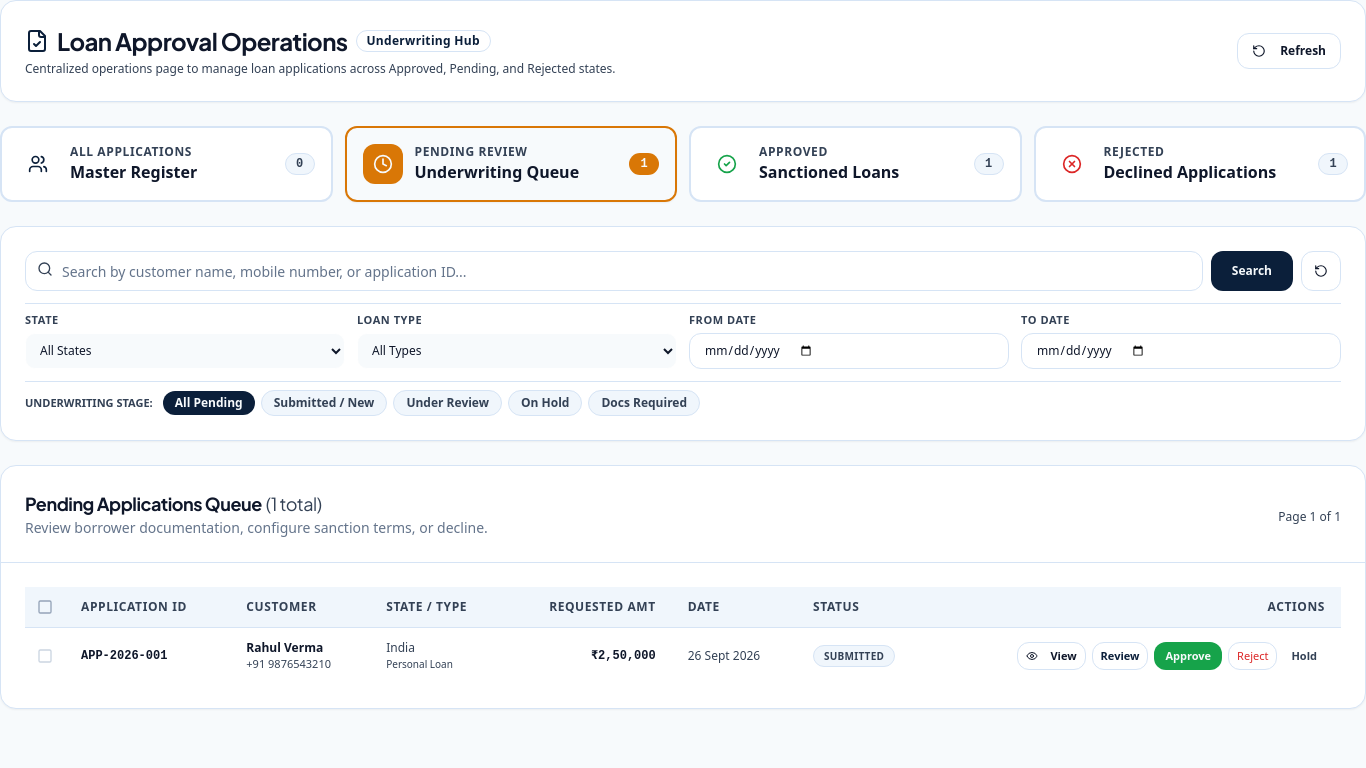
Test: FINAL CHANGE 4/5: Loan Approval Operations & Documents Hub › 1. Dedicated Admin Loan Approval Operations Page (/admin/loan-approval) › renders the 3 top-level state navigation buttons: Pending, Approved, and Rejected
Expected: the heading "Loan Approval Operations" is shown, [25, 25, 348, 57]
Expected: the text "Pending Review" is shown, [414, 143, 528, 160]
// Switch to Approved Tab
Click the text "Sanctioned Loans".
click(829, 172)  # box [759, 160, 899, 184]
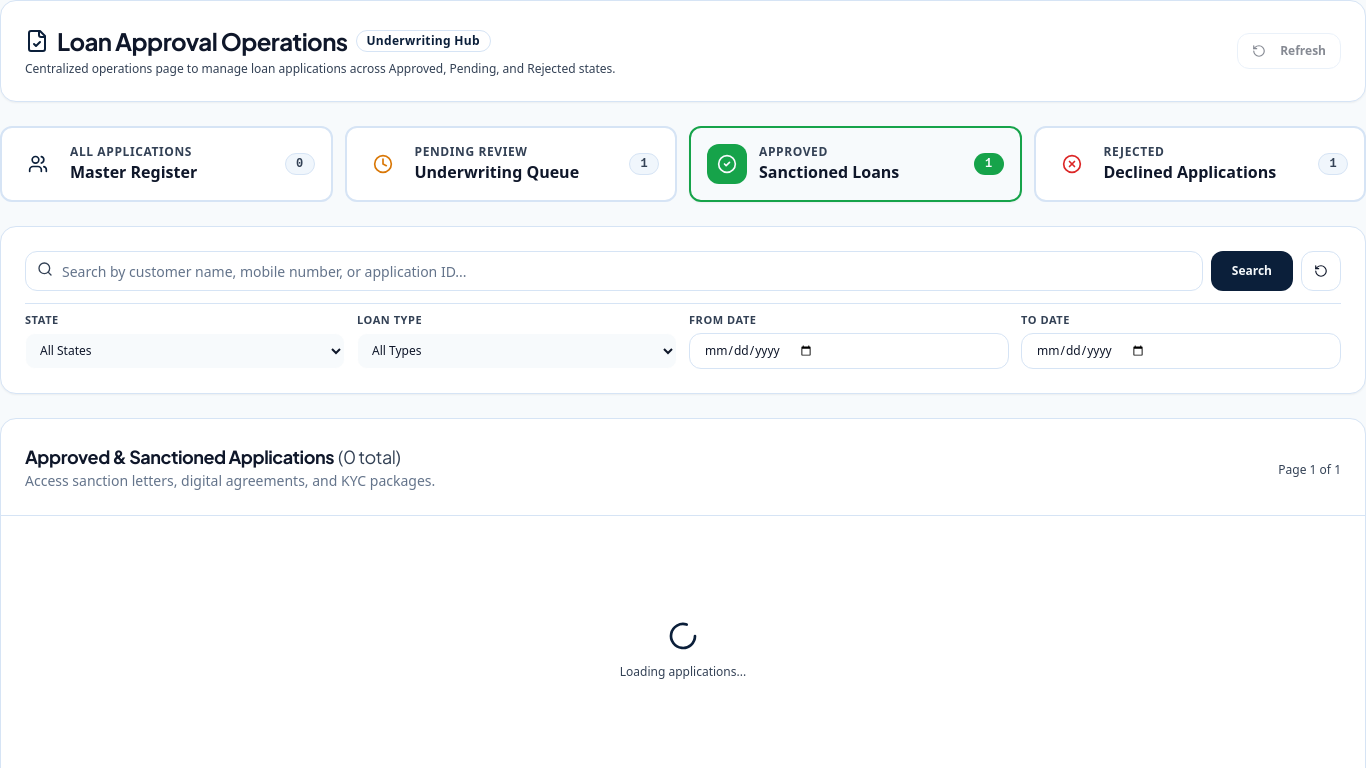
Now the heading "Approved & Sanctioned Applications" is shown, box [25, 444, 334, 468]
// Switch to Rejected Tab
Click the text "Declined Applications".
click(1190, 172)  # box [1104, 160, 1276, 184]
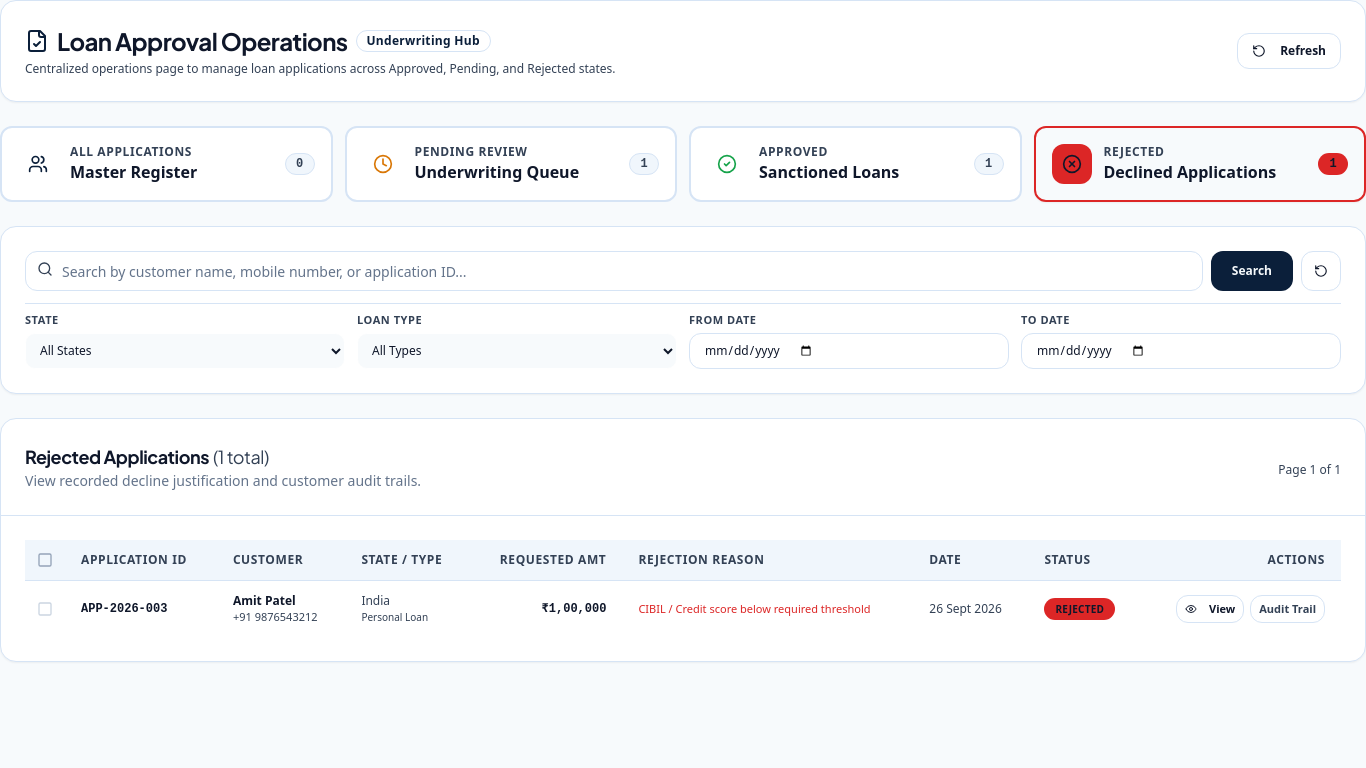
Now the heading "Rejected Applications(1 total)" is shown, box [25, 444, 269, 468]
